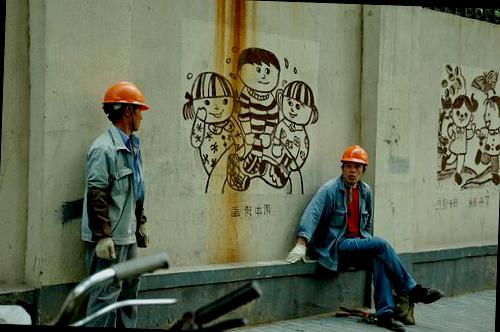person: (282, 141, 449, 332), (73, 78, 161, 328)
